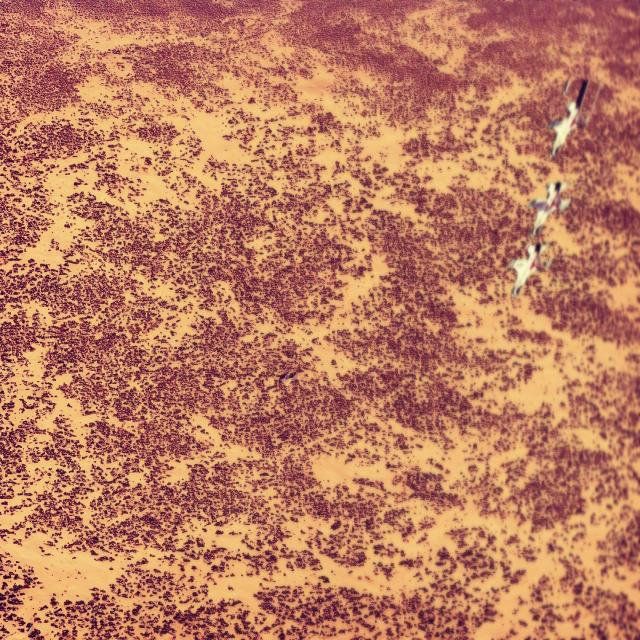airplane: (548, 75, 600, 160), (506, 240, 553, 298), (527, 180, 571, 238)
